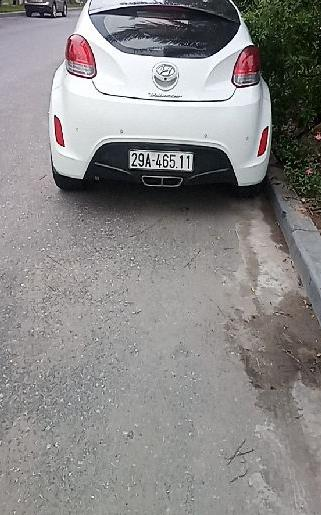Plate-iWeP: (129, 150, 194, 172)
